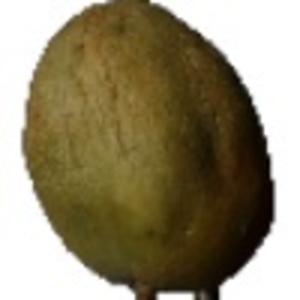mamão: (15, 3, 288, 292)
